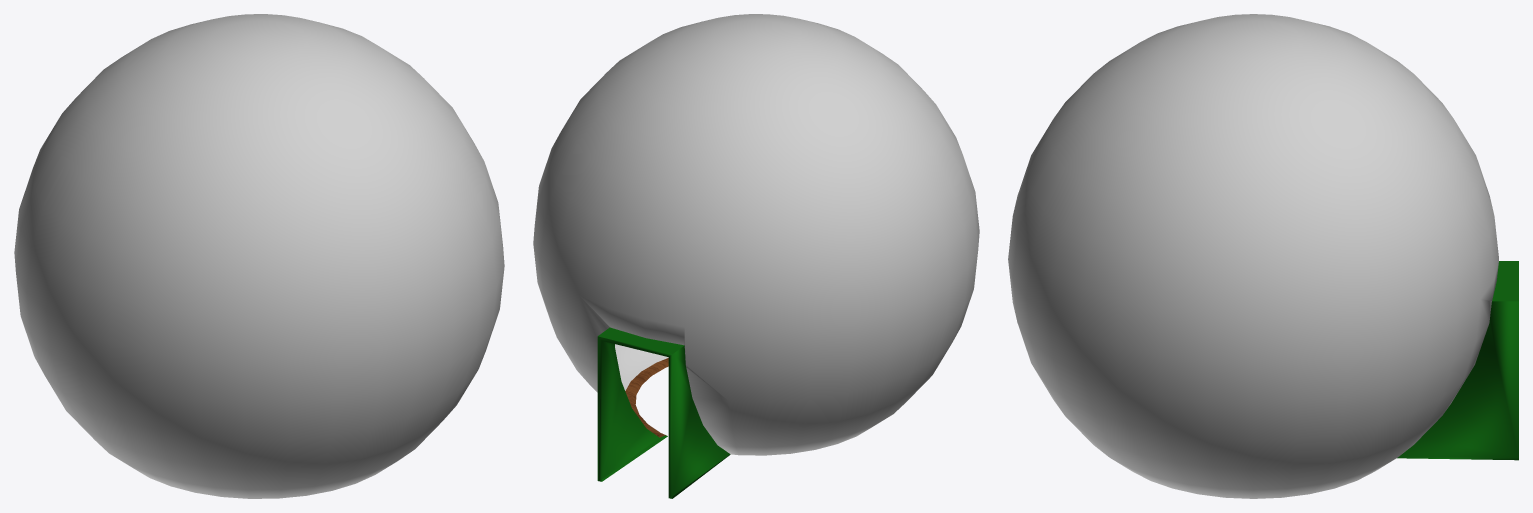
File: 360Dome.fbx
The picture shows the model from 3 angles, left to right: view 1: azimuth 30°, elevation 25°; view 2: azimuth 150°, elevation 25°; view 3: azimuth 270°, elevation 25°; orthographic projection. The views are drawn at different scales.
Visible parts, largest first — view 1: SphereCombined.001; view 2: SphereCombined.001; view 3: SphereCombined.001.
Part boxes in pixels (<box>): SphereCombined.001: <box>14,14,504,498</box>; SphereCombined.001: <box>533,14,979,498</box>; SphereCombined.001: <box>1008,14,1518,498</box>.
Size of the model in its own units: 200 by 181 by 208.
